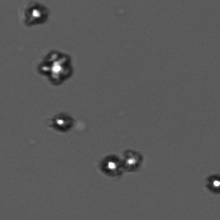Living Cell: (35, 49, 76, 87), (17, 1, 54, 30), (47, 107, 74, 134), (118, 146, 145, 173), (97, 152, 124, 179), (204, 173, 219, 195)
